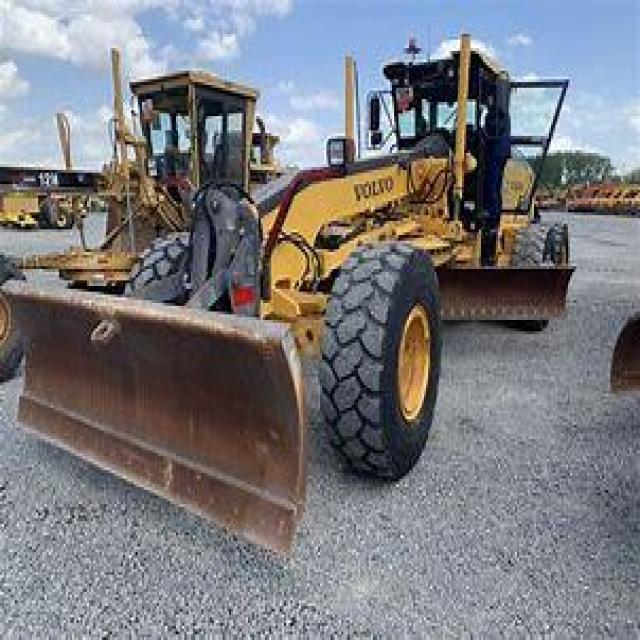Grader: (42, 20, 617, 501)
